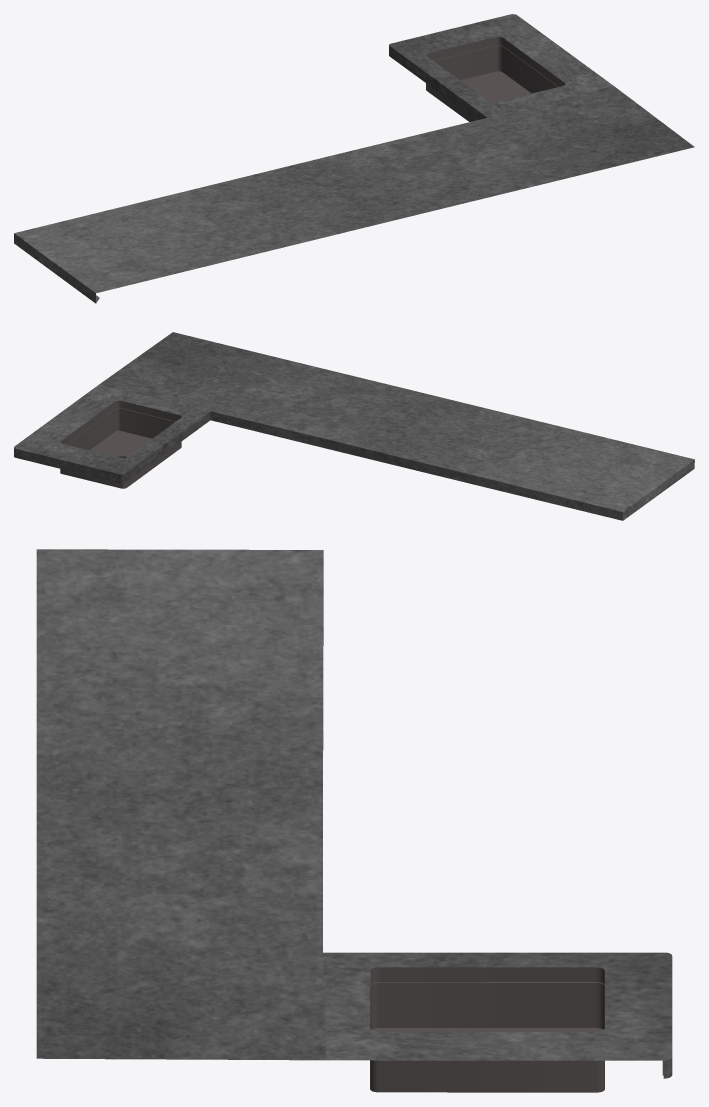
3 renders of one model, top to bottom at view 1: azimuth 30°, elevation 25°; view 2: azimuth 150°, elevation 25°; view 3: azimuth 270°, elevation 25°, orthographic. The views are drawn at different scales.
Visible parts, largest first — view 1: Countertop V2; view 2: Countertop V2; view 3: Countertop V2.
Boxes of the visible parts, x1,y1,x2,y2 form: Countertop V2: (14,14,694,303); Countertop V2: (14,332,694,520); Countertop V2: (36,549,672,1092).
Size of the model in its own units: 3.09 by 0.204 by 1.62.
2 materials, 2 textured.
